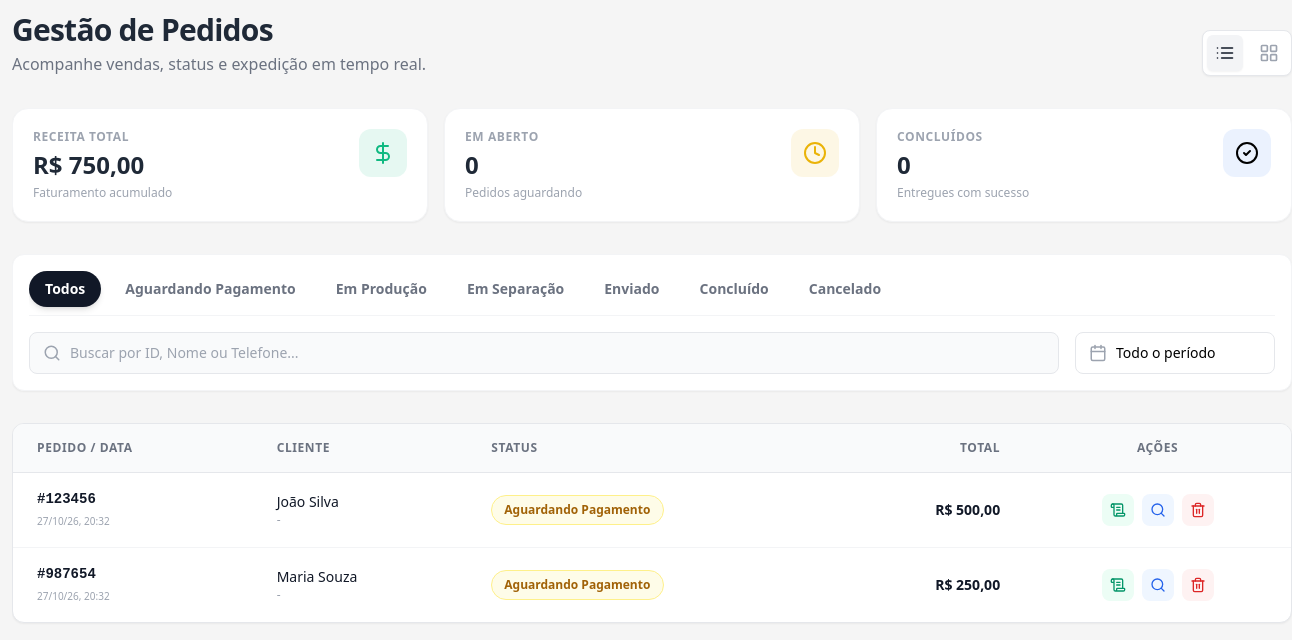
Test: PedidosPage › deve filtrar pedidos pelo input de busca
Expected: the text "João Silva" is shown, left=277, top=492, right=339, bottom=511
Type "João" into the field with placeholder "Buscar por ID, Nome ou Telefone...".
click(544, 353); type("João")  # box left=29, top=332, right=1059, bottom=374
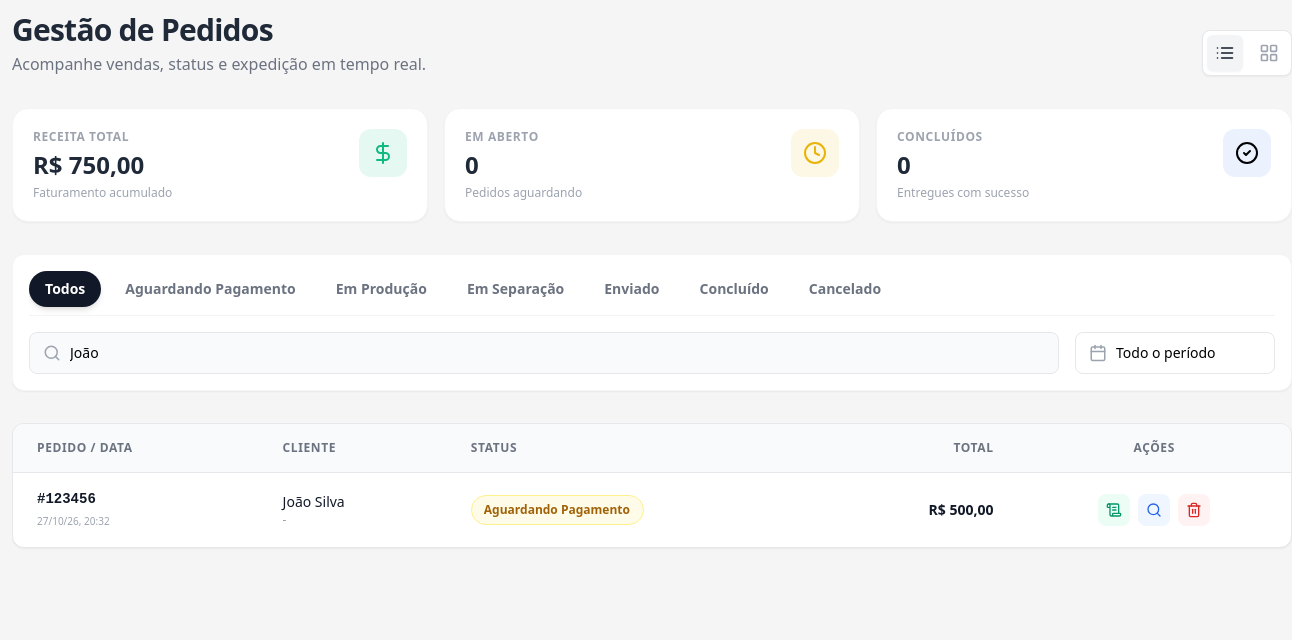
Expected: the text "João Silva" is shown, left=283, top=492, right=345, bottom=511
Now the text "Maria Souza" is gone
